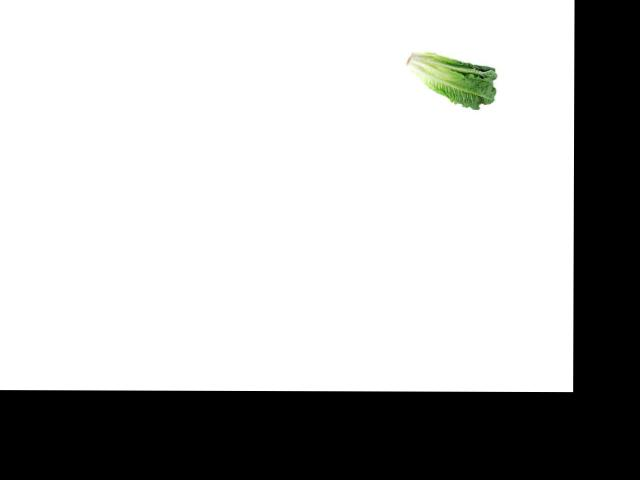lettuce: (401, 49, 499, 108)
